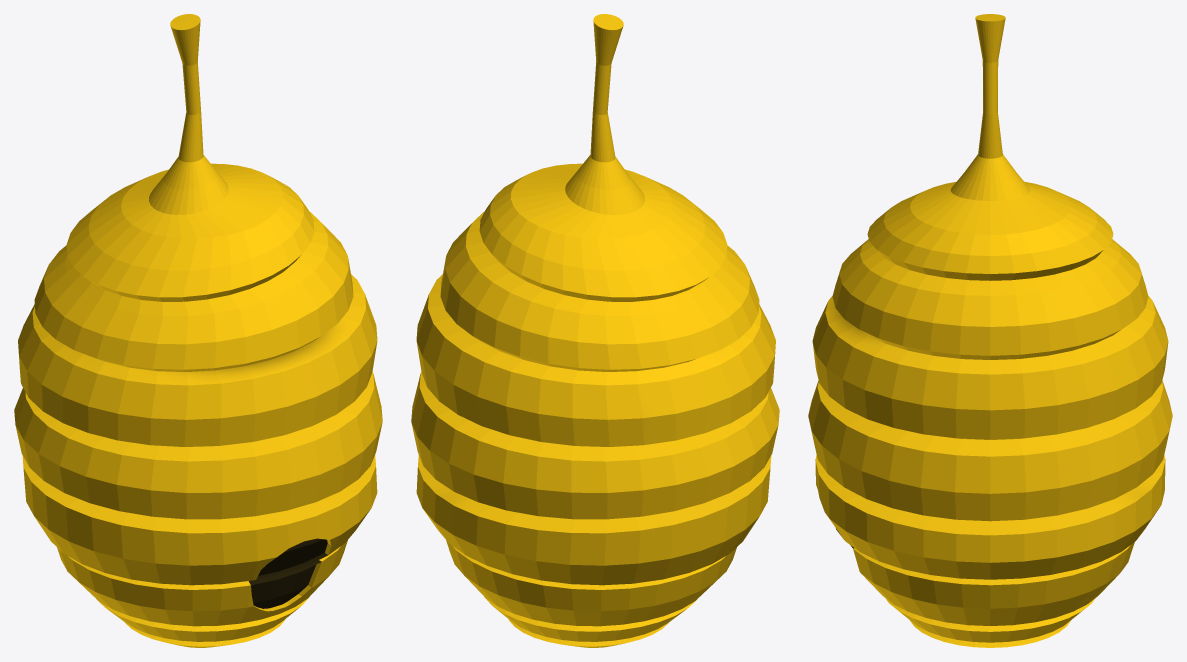
The model's file is beehive.fbx.
3 renders of one model, left to right at view 1: azimuth 30°, elevation 25°; view 2: azimuth 150°, elevation 25°; view 3: azimuth 270°, elevation 25°, orthographic.
Parts seen in each view (by area): view 1: Sphere; view 2: Sphere; view 3: Sphere.
Part boxes in pixels (box(x1,y1,x2,y2)): Sphere: box(14, 14, 382, 647); Sphere: box(411, 14, 779, 647); Sphere: box(808, 14, 1172, 647).
Bounding box in the file's own units: 2.47 × 2.47 × 4.61.
Materials: 1 (1 with a texture image).
